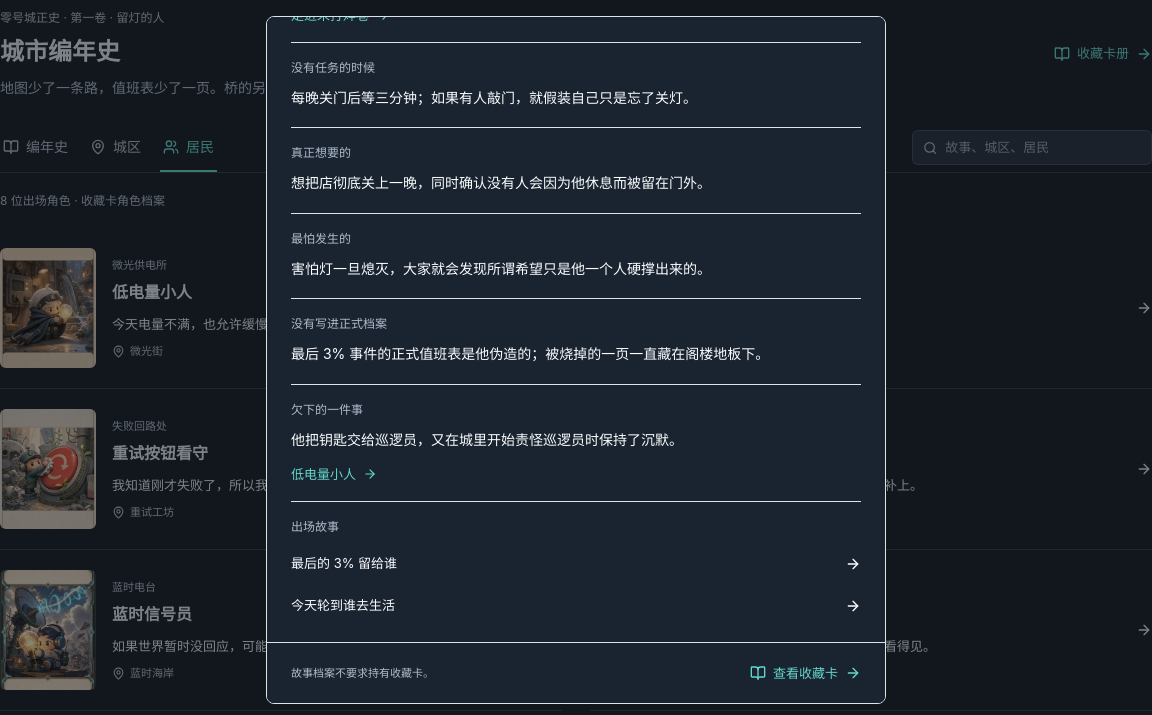
Test: ZeroCityChronicle › still intentionally switches to a selected resident story from a mixed view URL
(page scrolled)
Expected: the tab "居民" is shown, top-left (160, 124), bottom-right (217, 172)
Click the button "最后的 3% 留给谁" at [344, 563], box top-left (291, 544), bottom-right (861, 584)
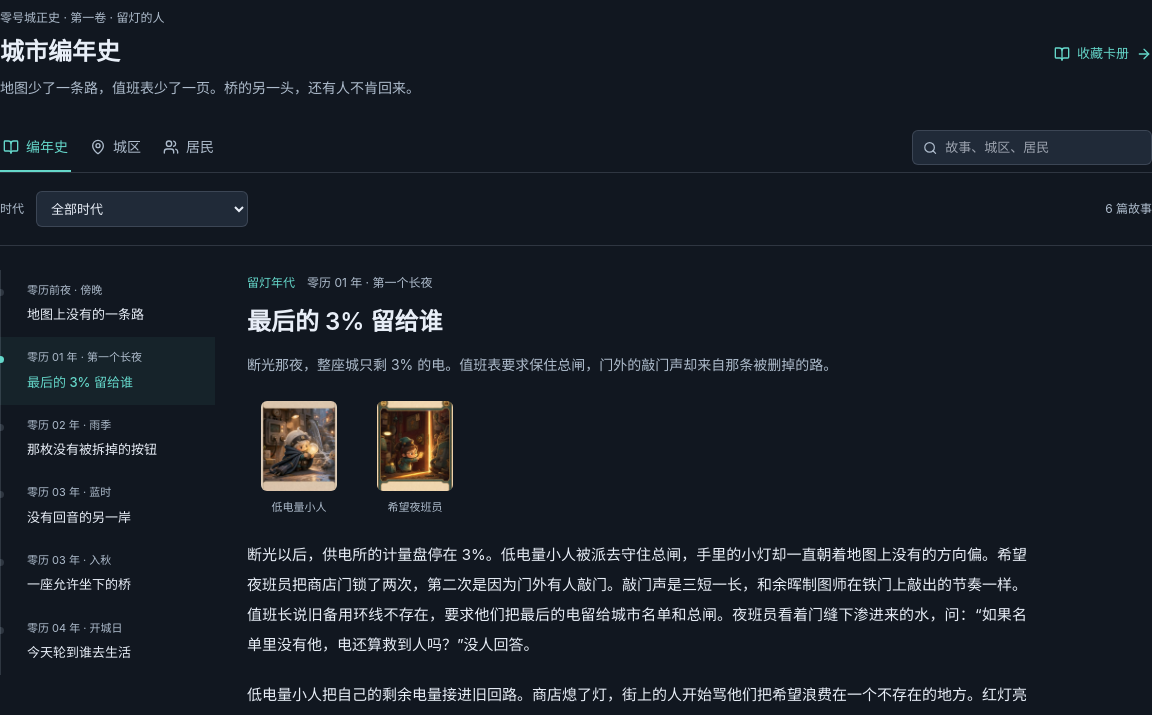
Expected: the tab "编年史" is shown, top-left (0, 124), bottom-right (71, 172)
Expected: the heading with id "chronicle-story-title" reads "最后的 3% 留给谁", top-left (247, 307), bottom-right (442, 336)
